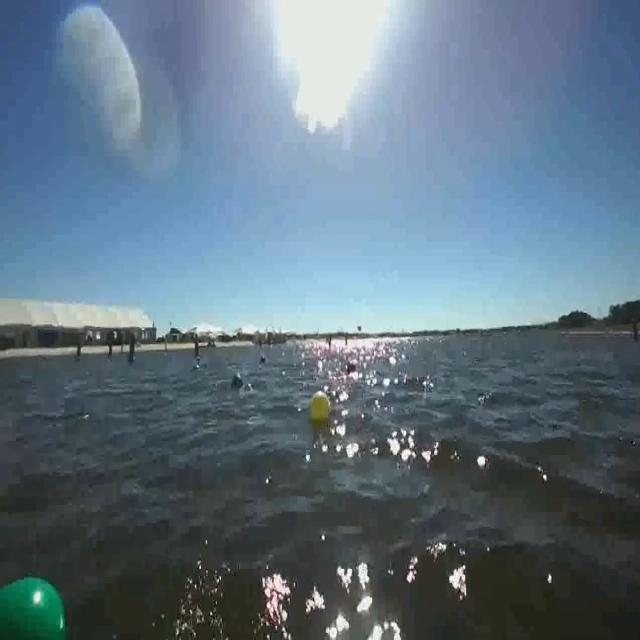green-buoy: (0, 565, 79, 640)
yellow-buoy: (311, 391, 334, 426)
